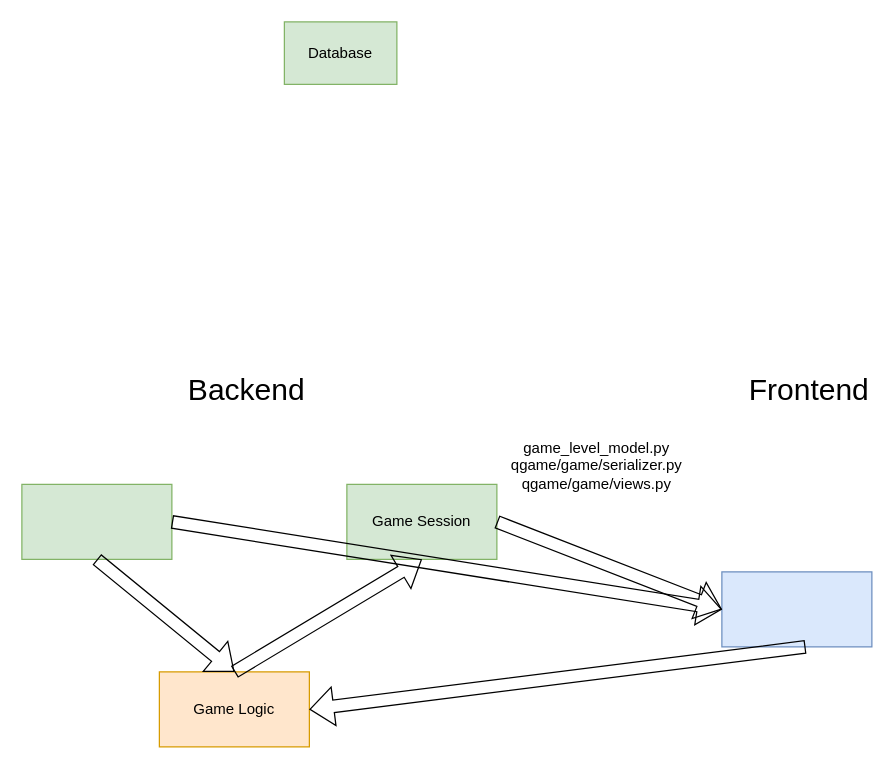
Some shapes in this 894 by 769 pixel diagram are drawn without their labels. The shapes that lost their labels are listed below. From the top down, each one's centre as x and y in pixels, then its label:
the point at 96,521: Game Level
the point at 796,609: Game Board
